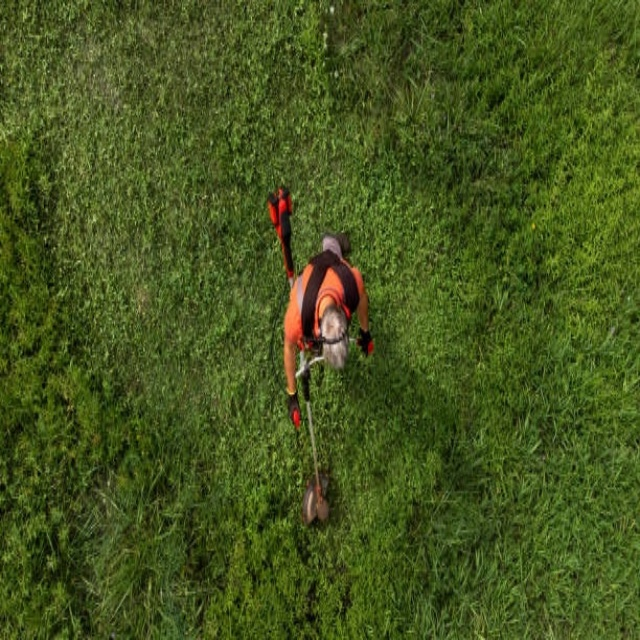Guantes: (279, 378, 304, 433), (359, 324, 376, 359)
